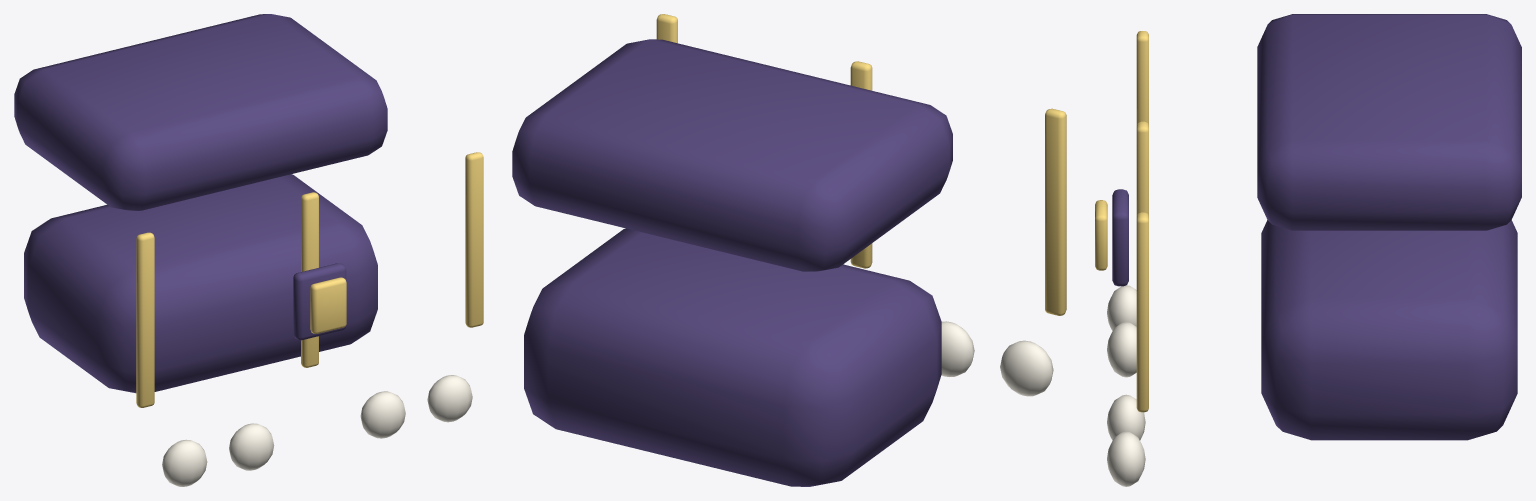
Rendered from treasure_chest.glb.
3 views of the same model, side by side, from view 1: azimuth 30°, elevation 25°; view 2: azimuth 150°, elevation 25°; view 3: azimuth 270°, elevation 25° (orthographic). The views are drawn at different scales.
Visible parts, largest first — view 1: LidInk, ChestInk, GoldBand_1.55, GoldBand_-1.55, GoldBand_0.0, LockInk, Lock, TreasurePearl_1, TreasurePearl_2, TreasurePearl_3, TreasurePearl_0; view 2: ChestInk, LidInk, GoldBand_-1.55, TreasurePearl_0, TreasurePearl_1, GoldBand_0.0; view 3: LidInk, ChestInk, GoldBand_1.55, TreasurePearl_3, LockInk, TreasurePearl_1, TreasurePearl_2, GoldBand_0.0, GoldBand_-1.55, TreasurePearl_0, Lock.
Part boxes in pixels (x1=…): LidInk: x1=14, y1=14, x2=387, y2=210; ChestInk: x1=24, y1=174, x2=377, y2=393; GoldBand_1.55: x1=465, y1=152, x2=483, y2=327; GoldBand_-1.55: x1=136, y1=232, x2=154, y2=407; GoldBand_0.0: x1=301, y1=192, x2=318, y2=367; LockInk: x1=293, y1=263, x2=346, y2=340; Lock: x1=310, y1=277, x2=346, y2=333; TreasurePearl_1: x1=229, y1=423, x2=274, y2=470; TreasurePearl_2: x1=360, y1=391, x2=405, y2=438; TreasurePearl_3: x1=427, y1=375, x2=472, y2=422; TreasurePearl_0: x1=162, y1=439, x2=207, y2=486; ChestInk: x1=524, y1=228, x2=941, y2=486; LidInk: x1=512, y1=39, x2=952, y2=271; GoldBand_-1.55: x1=1045, y1=108, x2=1066, y2=315; TreasurePearl_0: x1=1000, y1=340, x2=1053, y2=396; TreasurePearl_1: x1=941, y1=321, x2=974, y2=376; GoldBand_0.0: x1=850, y1=61, x2=872, y2=268; LidInk: x1=1257, y1=14, x2=1521, y2=230; ChestInk: x1=1261, y1=220, x2=1517, y2=440; GoldBand_1.55: x1=1136, y1=212, x2=1148, y2=412; TreasurePearl_3: x1=1107, y1=431, x2=1145, y2=486; LockInk: x1=1112, y1=189, x2=1128, y2=286; TreasurePearl_1: x1=1107, y1=322, x2=1136, y2=377; TreasurePearl_2: x1=1107, y1=394, x2=1145, y2=440; GoldBand_0.0: x1=1136, y1=121, x2=1148, y2=215; GoldBand_-1.55: x1=1136, y1=31, x2=1148, y2=125; TreasurePearl_0: x1=1107, y1=285, x2=1136, y2=330; Lock: x1=1095, y1=200, x2=1107, y2=270.
Bounding box in the file's own units: 3.25 × 2.66 × 3.08.
